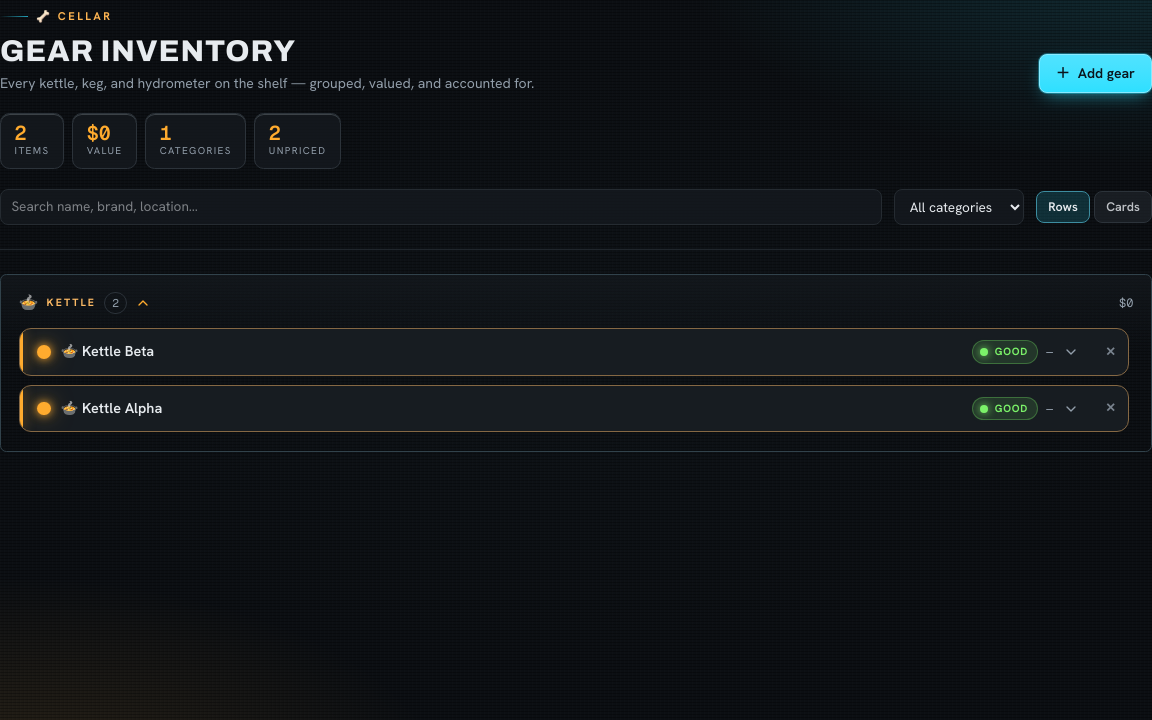
Test: GearView › single-expands: opening one row closes the previously open one
Expected: the text "Kettle Alpha" is shown, [82,399,162,417]
Expected: the text "note-alpha" is not shown
Click the button "🍲 Kettle Alpha good —" at (122, 408), box [20,386,1092,431]
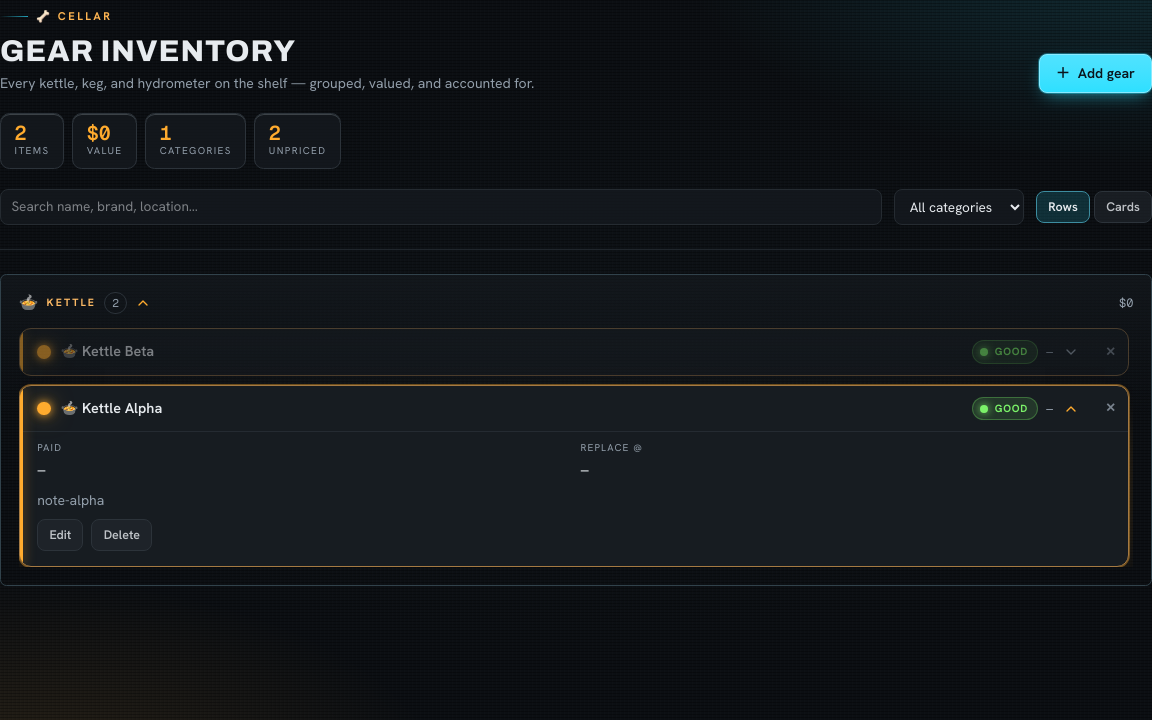
Expected: the text "note-beta" is not shown
Result: the text "note-alpha" is shown at [37,491,104,509]
Opening Beta closes Alpha (one at a time).
Click the button "🍲 Kettle Beta good —" at (118, 351), box [20,329,1092,375]
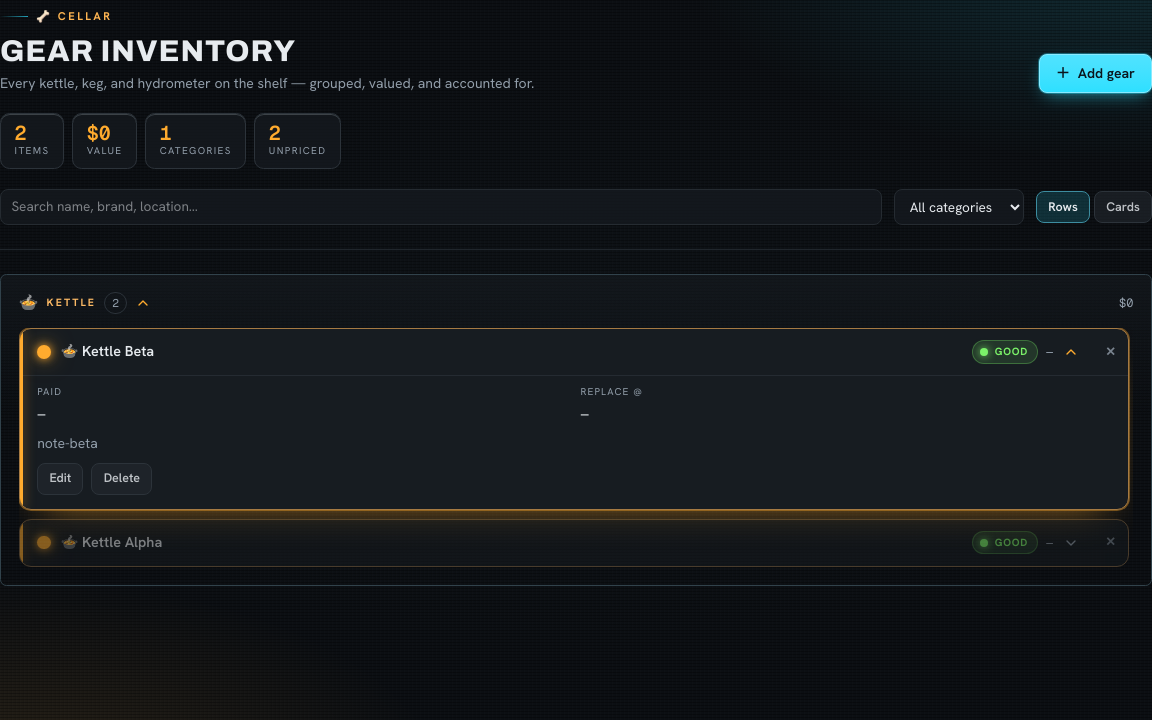
Result: the text "note-beta" is shown at [37,434,98,452]
Result: the text "note-alpha" is gone
